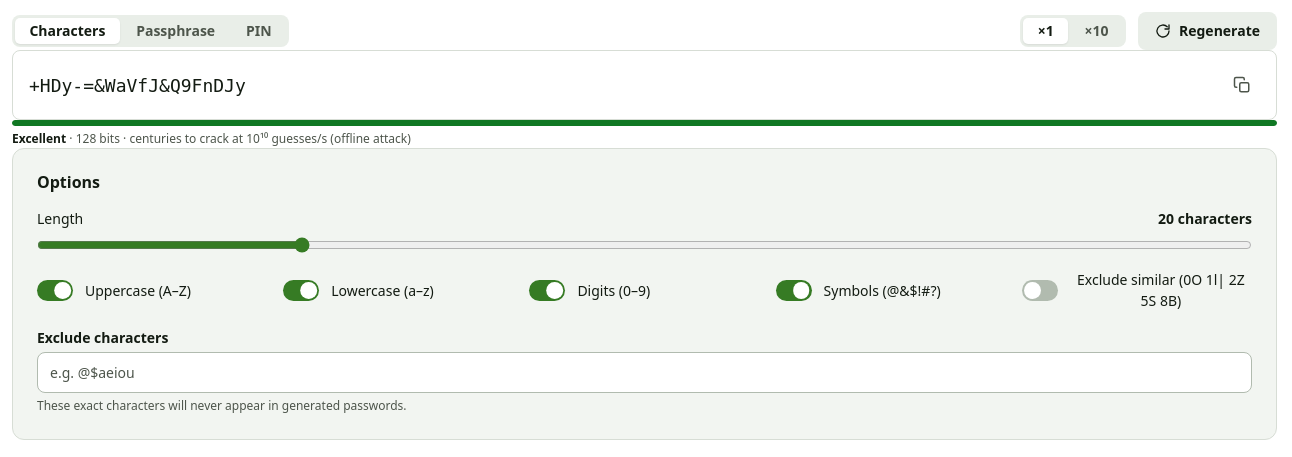
Test: GeneratorView — character mode › disables generation with a clear message when no class is selected
The width and height of the screenshot is (1292, 457).
Click the switch labelled "Uppercase (A–Z)": (152, 290) 37,269 -> 267,311
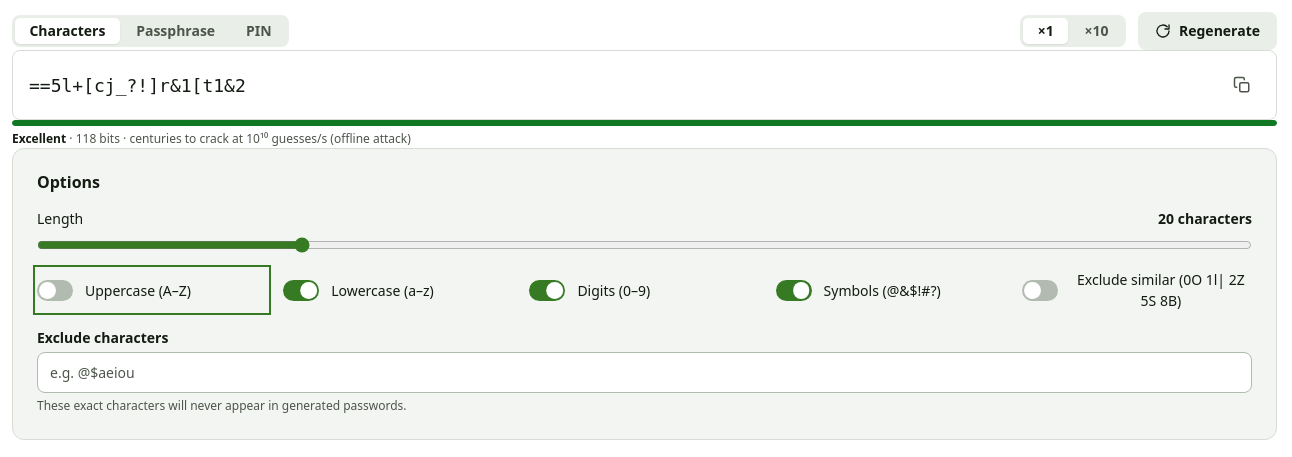
Click the switch labelled "Lowercase (a–z)": (398, 290) 283,269 -> 513,311
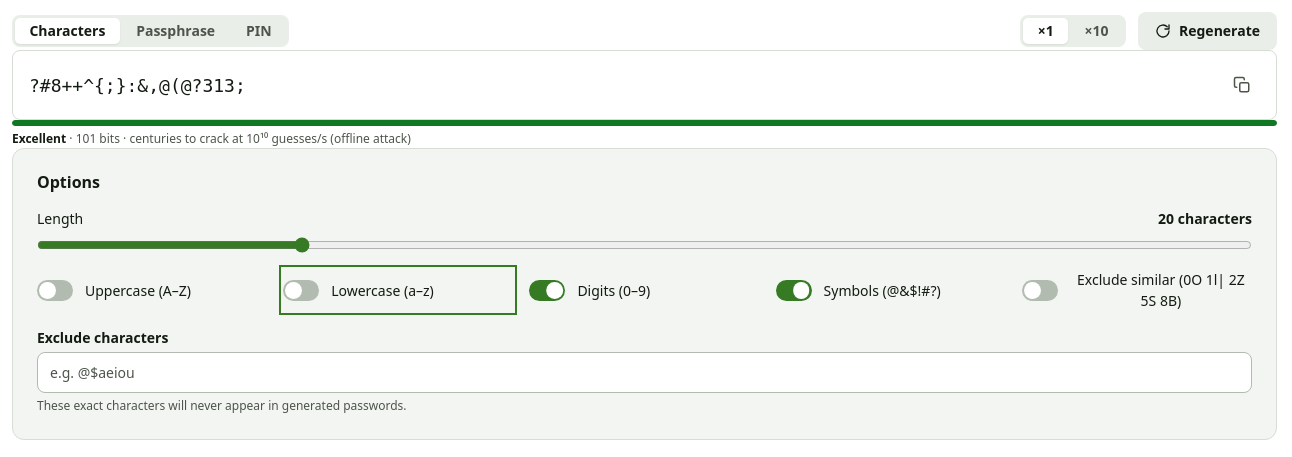
Click the switch labelled "Digits (0–9)": (644, 290) 529,269 -> 760,311
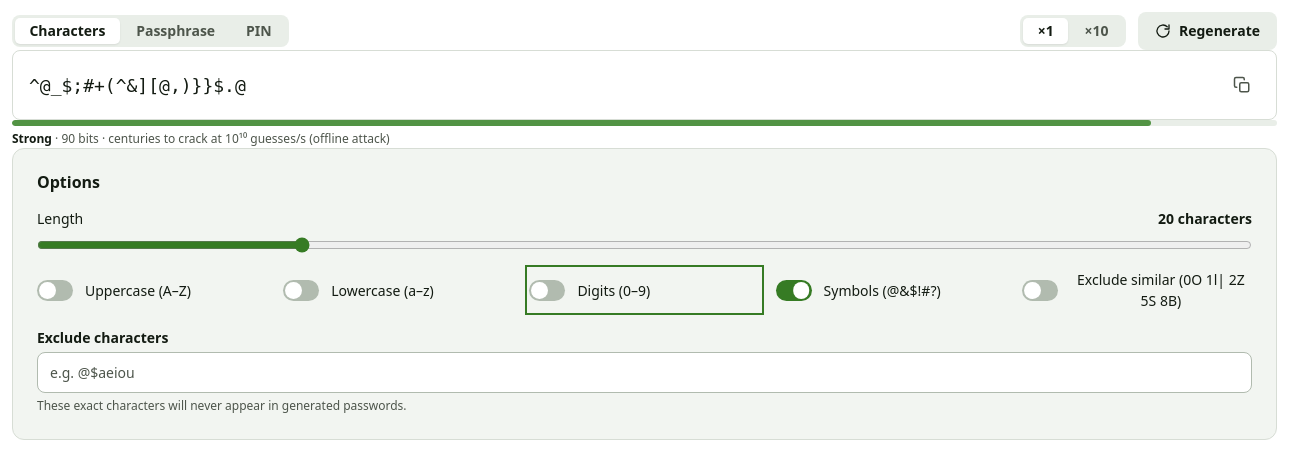
Click the switch labelled "Symbols (@&$!#?)": (891, 290) 776,269 -> 1006,311
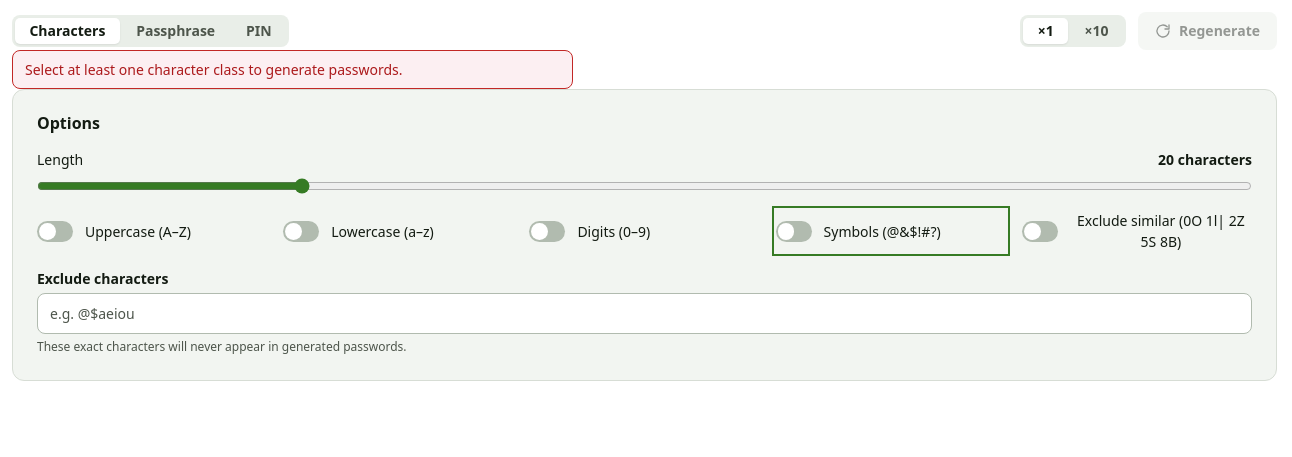
Expected: no elements with test id "password" are shown
Expected: the text "Select at least one character class to generate passwords." is shown, 12,50 -> 572,89
